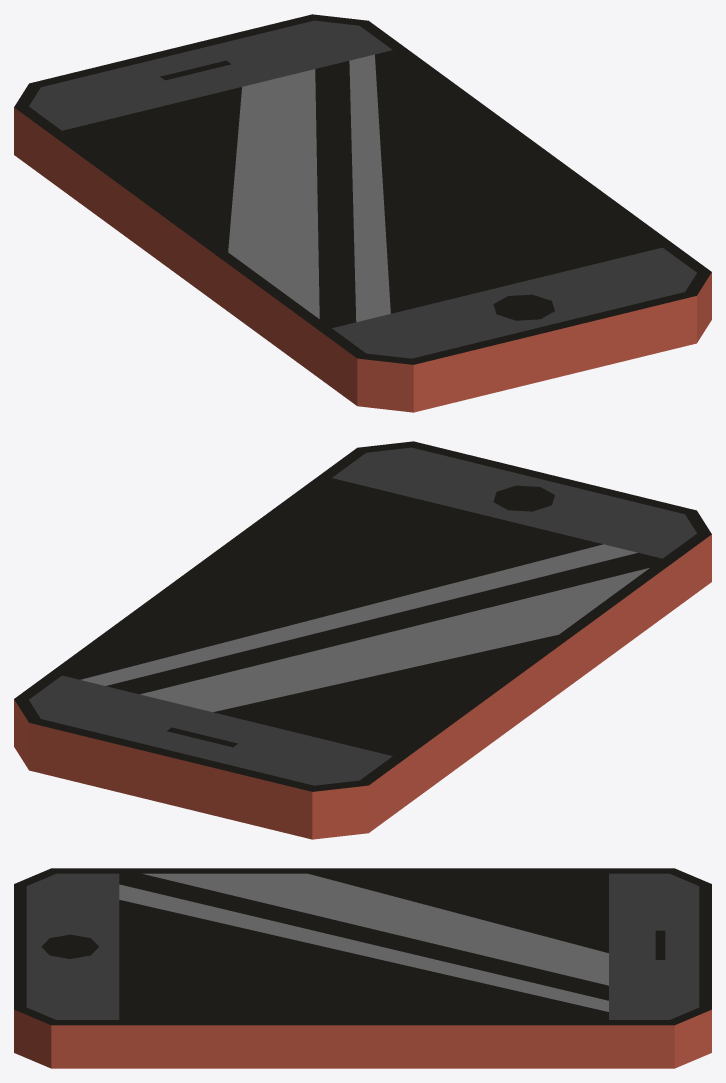
The model's file is collectable_phone.fbx.
3 renders of one model, top to bottom at view 1: azimuth 30°, elevation 25°; view 2: azimuth 150°, elevation 25°; view 3: azimuth 270°, elevation 25°, orthographic. The views are drawn at different scales.
Visible parts, largest first — view 1: quest_phone; view 2: quest_phone; view 3: quest_phone.
Part boxes in pixels (box(x1,y1,x2,y2)): quest_phone: box(14, 14, 711, 412); quest_phone: box(14, 441, 711, 839); quest_phone: box(14, 868, 711, 1068).
Bounding box in the file's own units: 0.1238 × 0.0159 × 0.2325.
